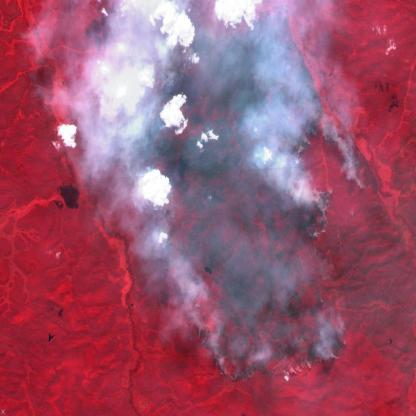fire: (104, 0, 373, 387)
